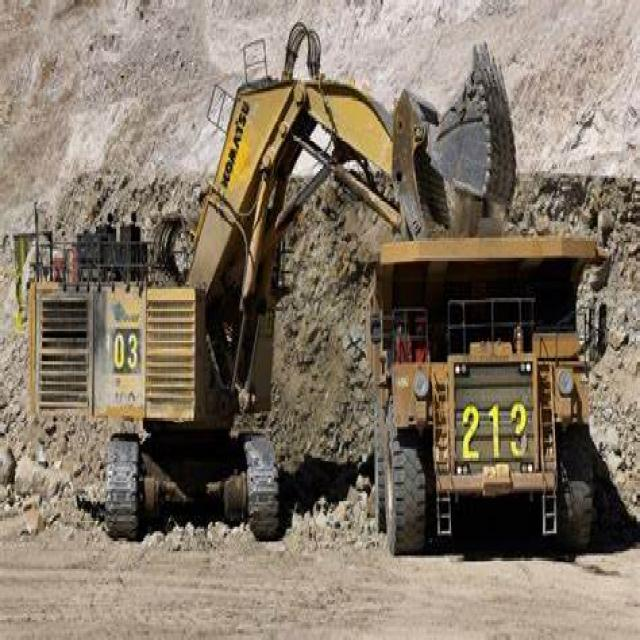dump_truck: (362, 216, 614, 560)
excavator: (24, 44, 516, 578)
